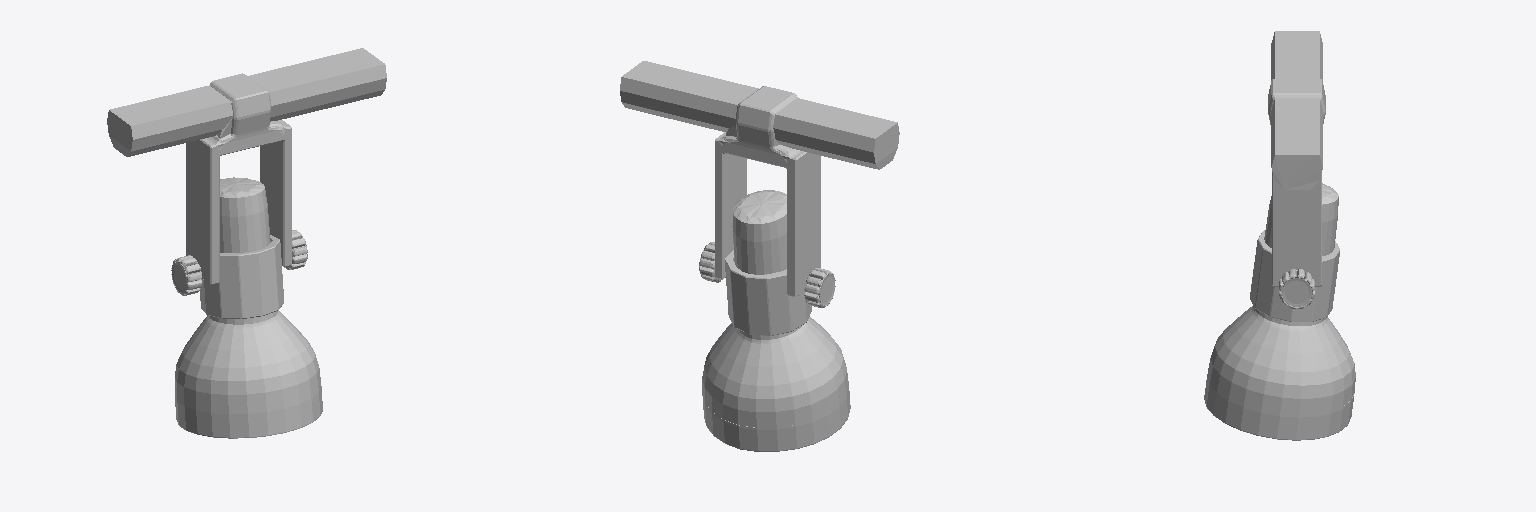
Rendered from lamps.obj.
The picture shows the model from 3 angles: view 1: azimuth 30°, elevation 25°; view 2: azimuth 150°, elevation 25°; view 3: azimuth 270°, elevation 25°; orthographic projection.
Parts seen in each view (by area): view 1: lamps; view 2: lamps; view 3: lamps.
Part boxes in pixels (x1,y1,x2,y2): lamps: (107,48,386,438); lamps: (620,61,899,451); lamps: (1204,31,1355,440).
Bounding box in the file's own units: 8.16 × 10.15 × 4.21.